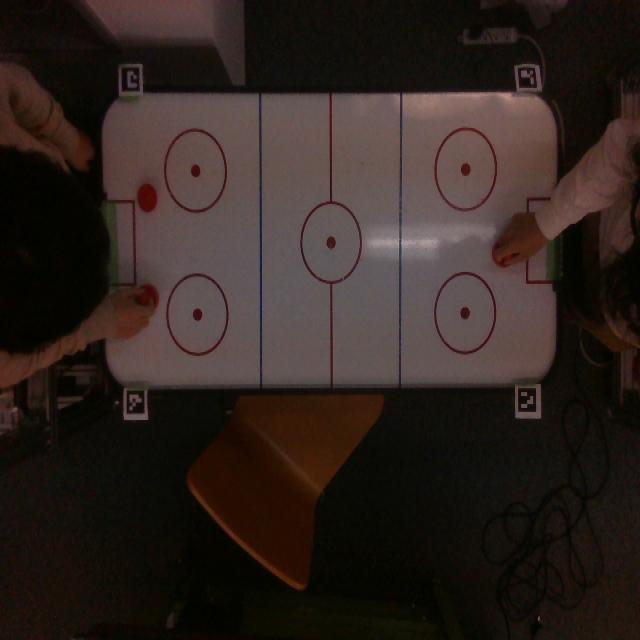puck: (137, 183, 157, 212)
